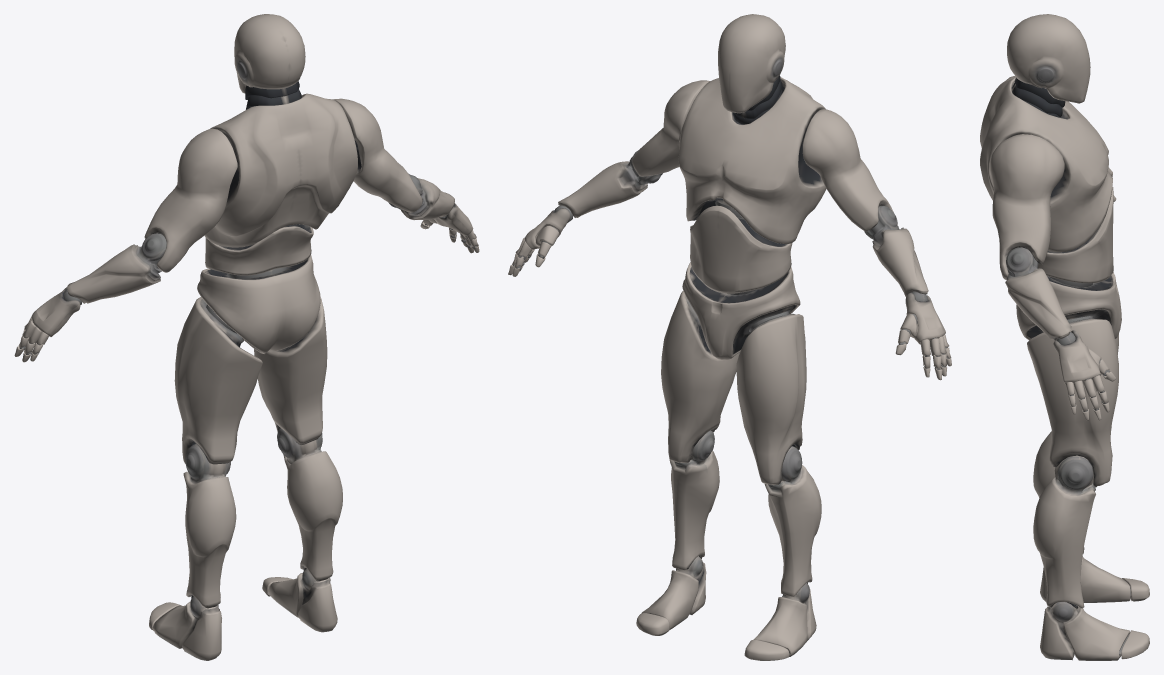
File: mannequin.glb
The picture shows the model from 3 angles, left to right: view 1: azimuth 30°, elevation 25°; view 2: azimuth 150°, elevation 25°; view 3: azimuth 270°, elevation 25°; orthographic projection. The views are drawn at different scales.
Visible parts, largest first — view 1: Body.001; view 2: Body.001; view 3: Body.001.
Part boxes in pixels (left/top/right/bottom): Body.001: left=14, top=14, right=479, bottom=660; Body.001: left=508, top=14, right=951, bottom=660; Body.001: left=980, top=14, right=1149, bottom=660.
Bounding box in the file's own units: 2.64 × 3.48 × 0.8793.
1 material, 1 textured.
